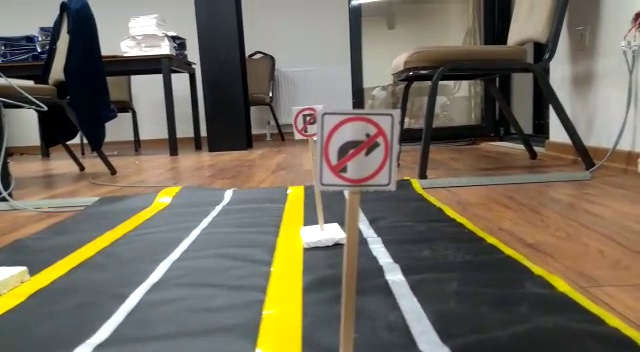park_yapilmaz: (293, 106, 319, 140)
saga_donulmez: (324, 112, 394, 189)
